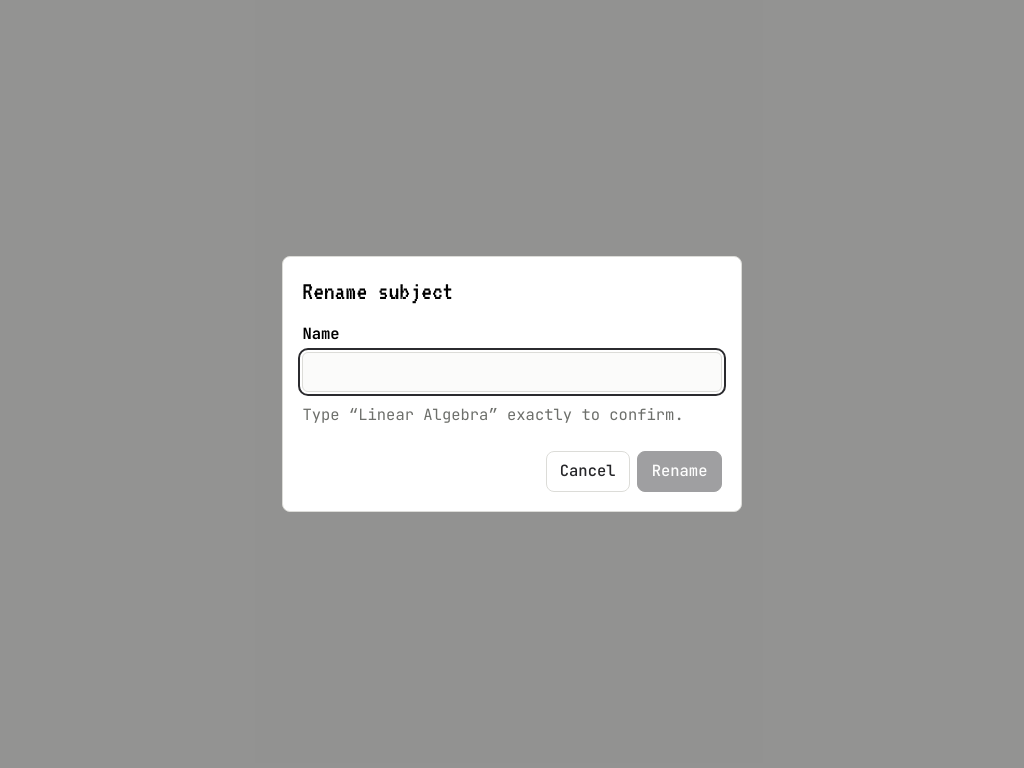
PromptDialog › stays disabled until the typed value echoes mustMatch exactly
Expected: the button "Rename" is disabled, 638,451 -> 722,492
In the field labelled "Name": (512, 372) 302,352 -> 722,392, type "linear algebra"
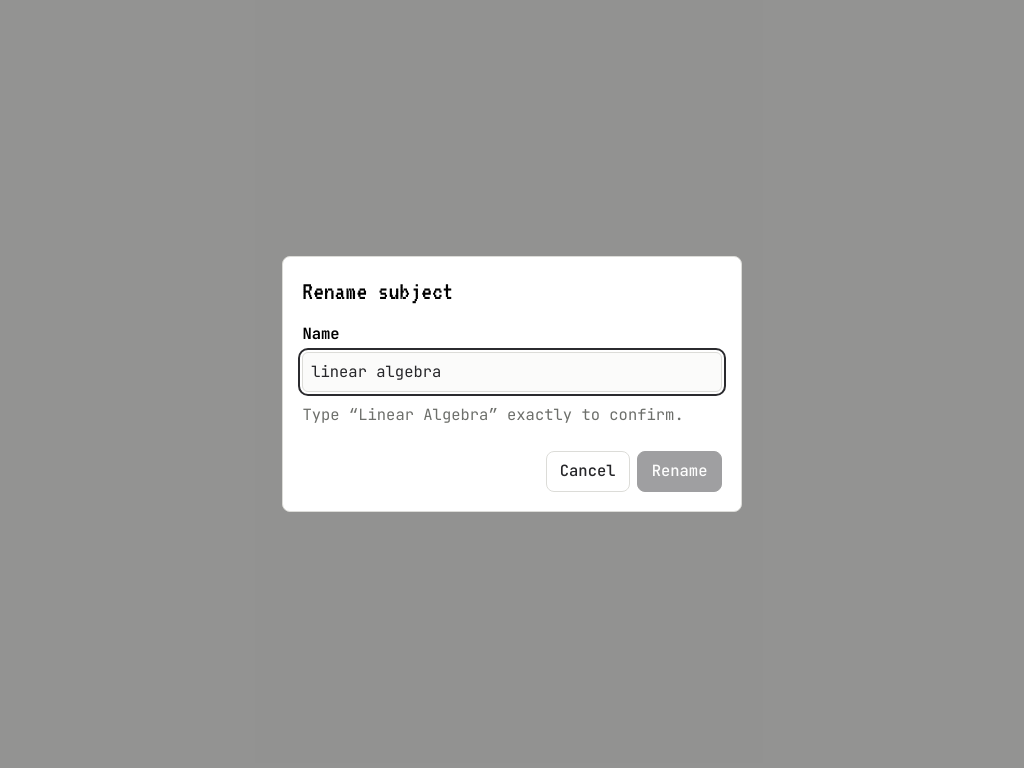
Expected: the text "Type “Linear Algebra” exactly to confirm." is shown, 302,403 -> 722,428
Expected: the button "Rename" is disabled, 638,451 -> 722,492
Replace the text in the field labelled "Name" with "Linear Algebra": (512, 372) 302,352 -> 722,392
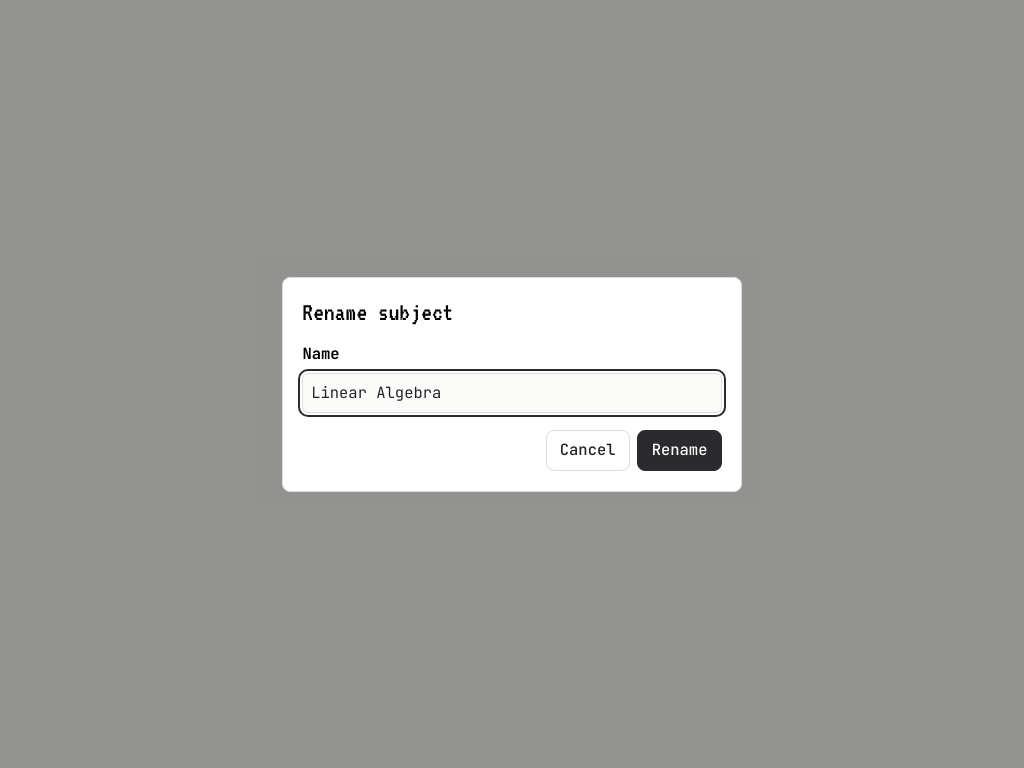
Now the button "Rename" is enabled, box 638,430 -> 722,471
